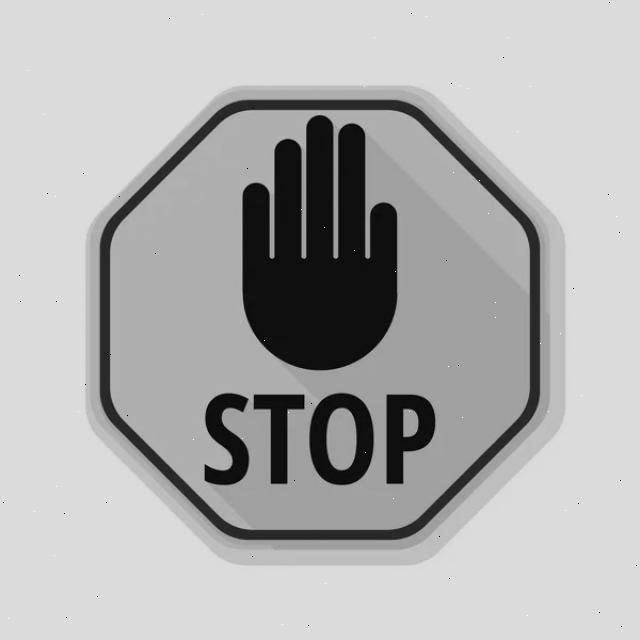Stop-sign: (68, 64, 586, 566)
